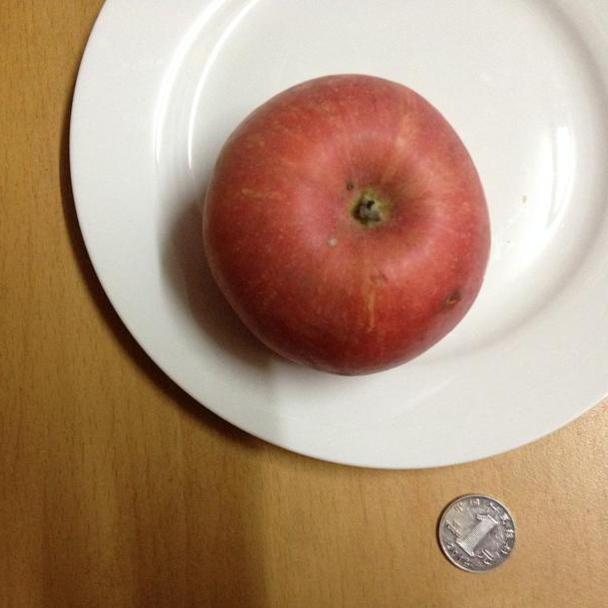apple: (202, 73, 490, 377)
